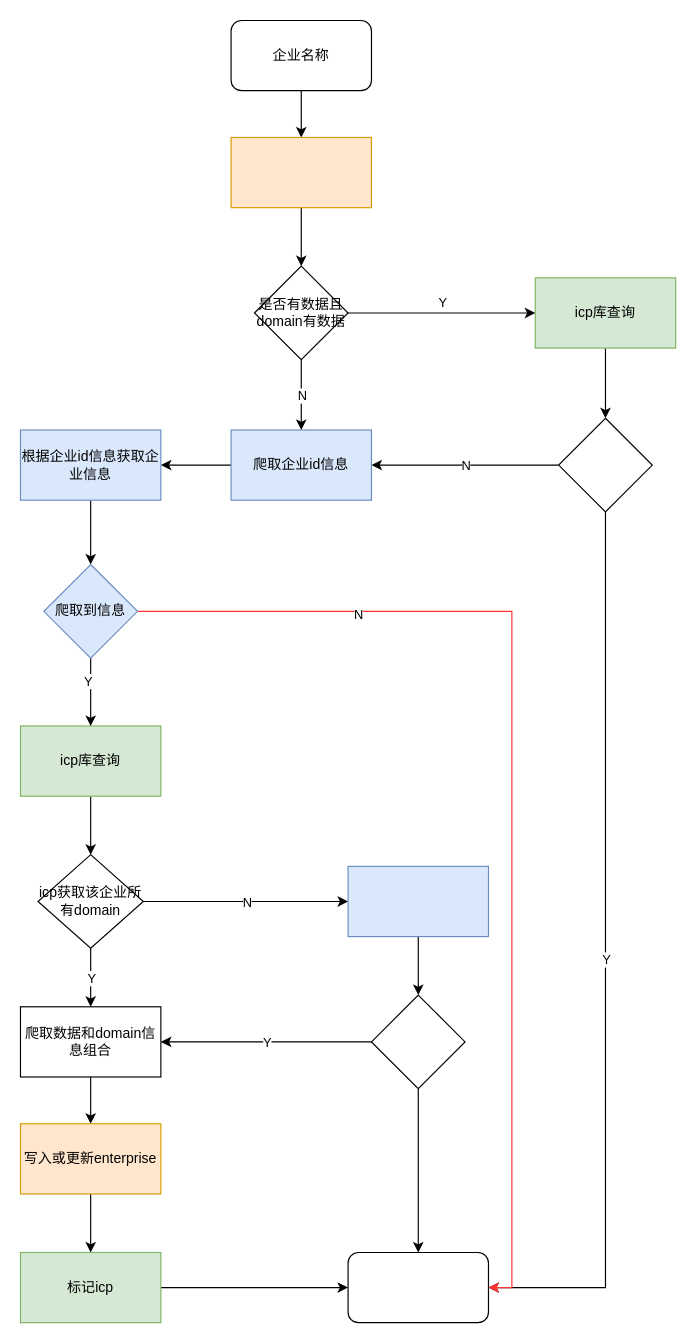
This 696x1343 diagram has some shape labels left out. The centre of each missing label's shape, as x and y in pixels:
"enterprise库中查询" belongs at point (300, 172).
"icp有数据" belongs at point (605, 464).
"是否获取到域名信息" belongs at point (417, 1041).
"根据企业id获取域名信息" belongs at point (417, 901).
"返回" belongs at point (417, 1287).
